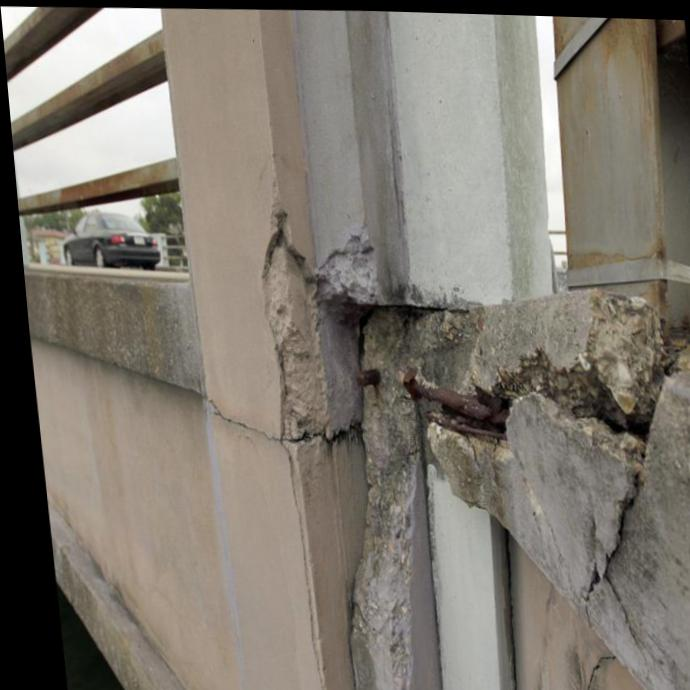crack: (571, 466, 636, 642), (196, 396, 274, 440), (494, 524, 505, 690), (572, 651, 604, 690)
damage: (250, 213, 676, 604)
